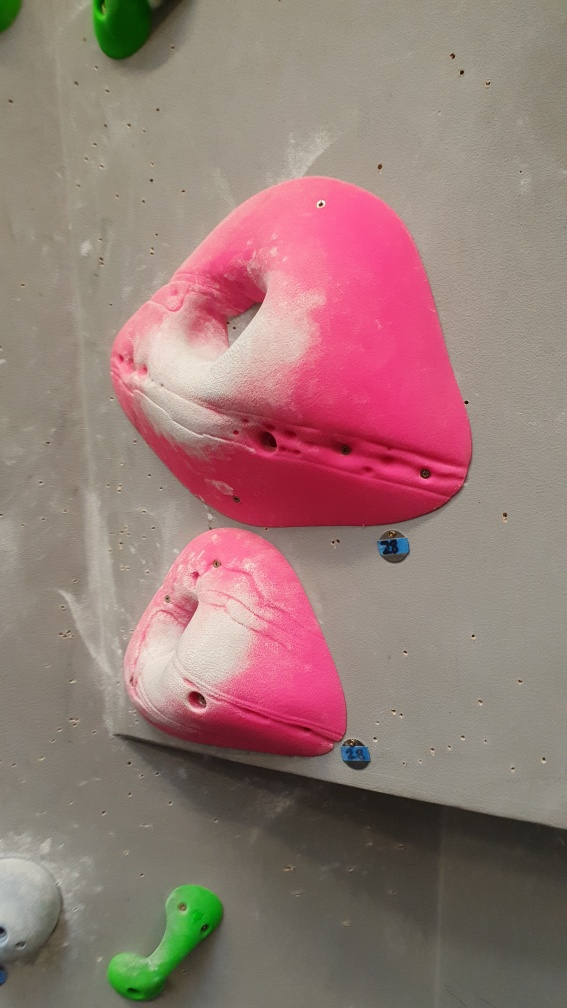Hand Start: (372, 525, 419, 568), (338, 731, 372, 776)
Pocket: (102, 173, 477, 534), (113, 521, 352, 760)
